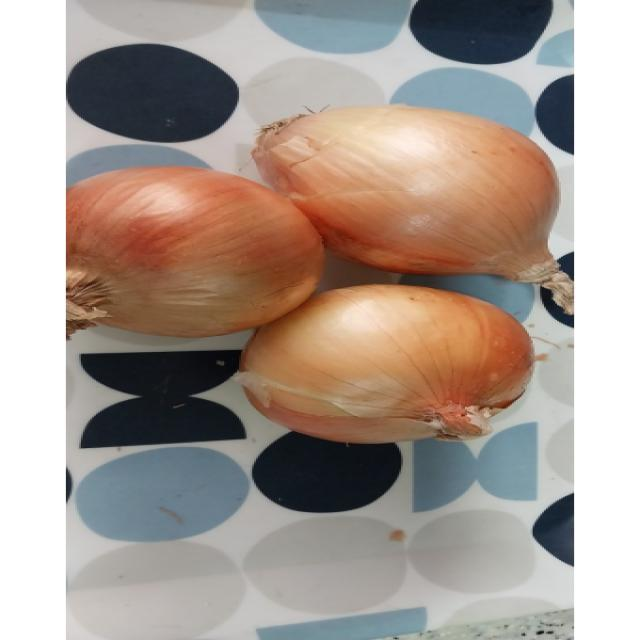onion: (266, 80, 582, 302), (267, 271, 538, 451), (57, 163, 327, 334)
